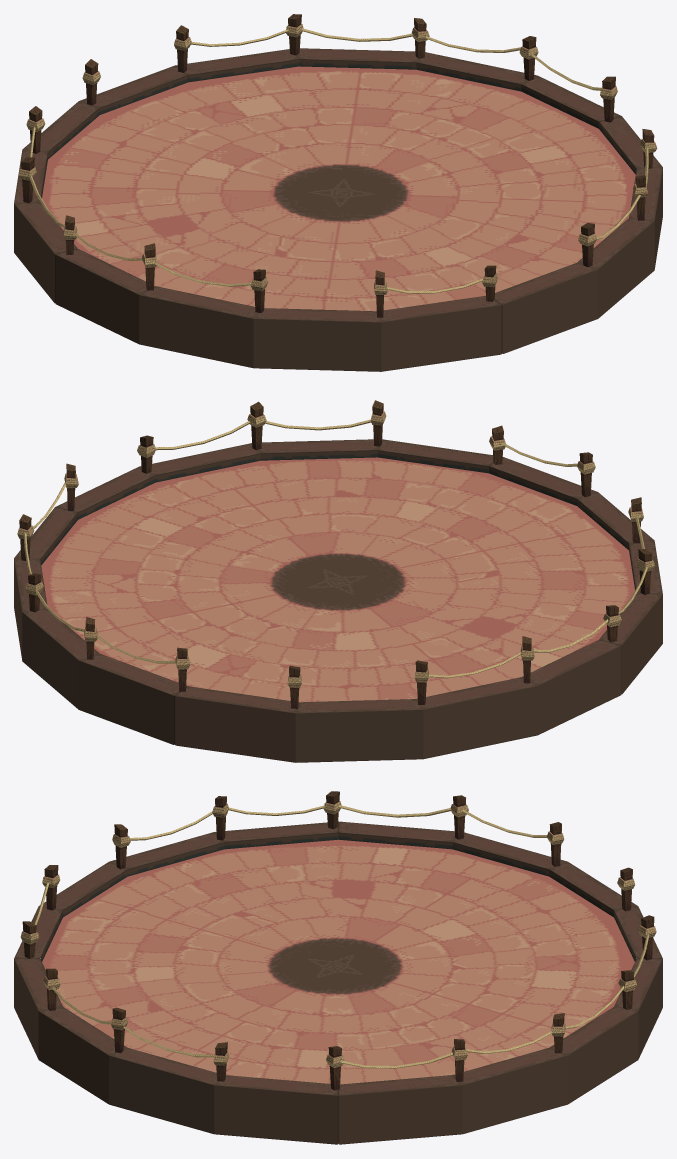
File: platform.obj
3 renders of one model, top to bottom at view 1: azimuth 30°, elevation 25°; view 2: azimuth 150°, elevation 25°; view 3: azimuth 270°, elevation 25°, orthographic.
Visible parts, largest first — view 1: Cylinder, Cube.014, Cube.011, Cube.015, Cube.002, Cube, Cube.005, Cube.004, Cube.008, Cube.001; view 2: Cylinder, Cube.012, Cube.009, Cube.007; view 3: Cylinder, Cube.008, Cube.009, Cube.014, Cube.012, Cube.005, Cube.002, Cube.004, Cube.
Boxes of the visible parts, x1,y1,x2,y2 form: Cylinder: [14, 48, 662, 371]; Cube.014: [600, 76, 617, 122]; Cube.011: [578, 223, 596, 267]; Cube.015: [519, 36, 538, 80]; Cube.002: [82, 59, 100, 105]; Cube: [174, 25, 191, 72]; Cube.005: [18, 157, 36, 203]; Cube.004: [26, 106, 45, 153]; Cube.008: [250, 269, 267, 312]; Cube.001: [286, 14, 303, 55]; Cylinder: [14, 439, 662, 762]; Cube.012: [247, 401, 266, 450]; Cube.009: [577, 452, 595, 497]; Cube.007: [636, 549, 654, 594]; Cylinder: [14, 821, 662, 1144]; Cube.008: [112, 824, 130, 869]; Cube.009: [42, 865, 60, 910]; Cube.014: [326, 1046, 344, 1090]; Cube.012: [111, 1007, 127, 1053]; Cube.005: [450, 795, 468, 839]; Cube.002: [617, 867, 635, 911]; Cube.004: [547, 822, 564, 866]; Cube: [638, 915, 656, 960].
Size of the model in its own units: 60 by 9.45 by 60.
Materials: 1 (1 with a texture image).
